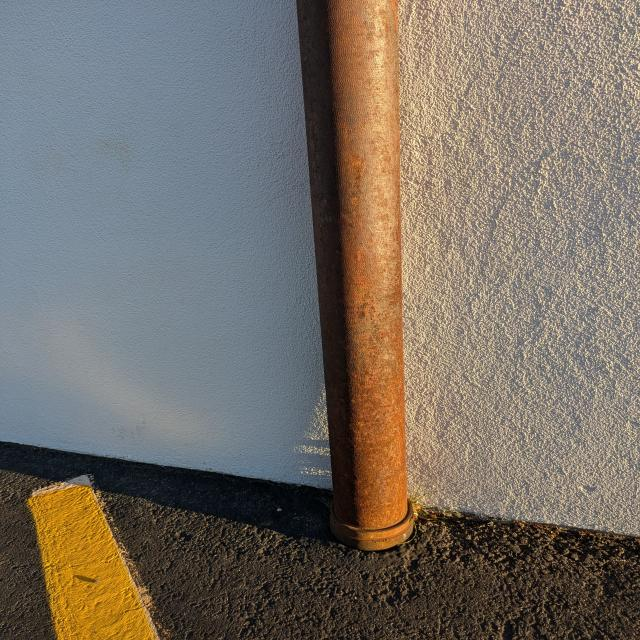Crevice Corrosion: (331, 505, 423, 544)
Uniform Corrosion: (300, 1, 409, 524)
